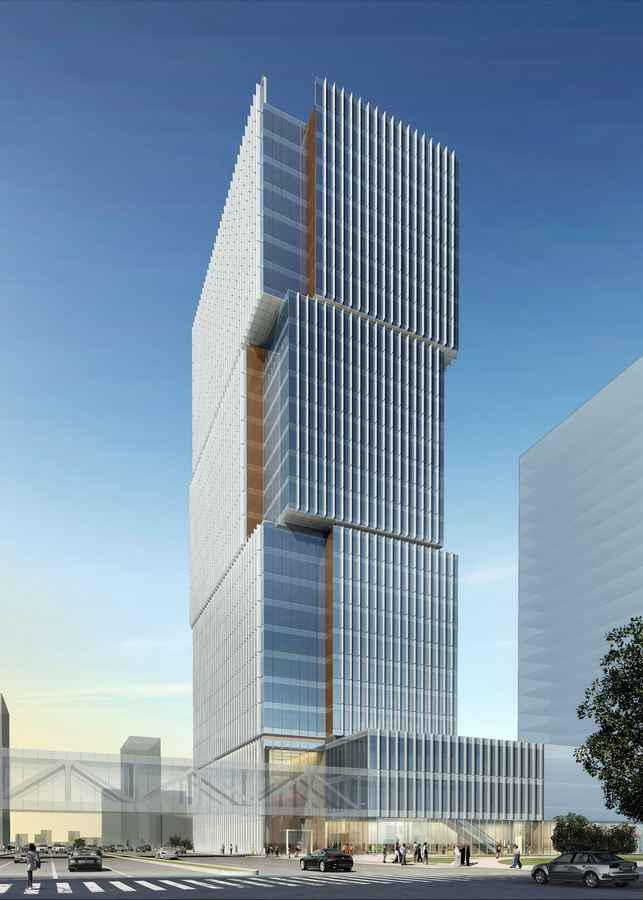affected: (177, 62, 566, 852)
